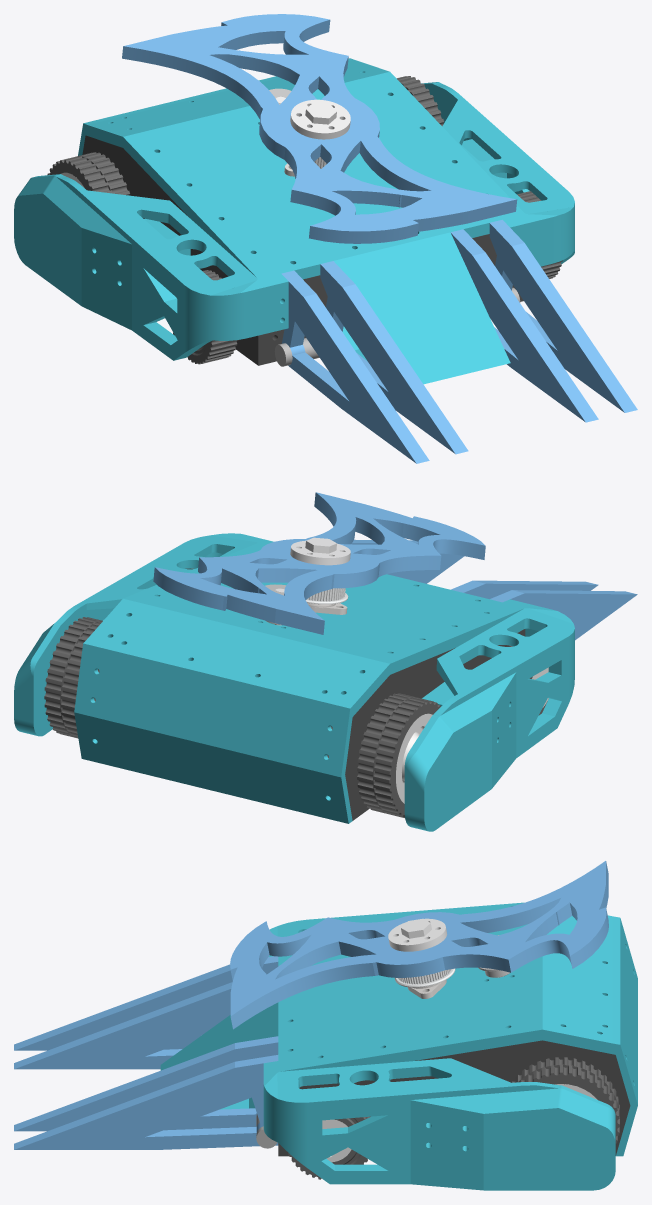
File: Robot1.glb
3 renders of one model, top to bottom at view 1: azimuth 30°, elevation 25°; view 2: azimuth 150°, elevation 25°; view 3: azimuth 270°, elevation 25°, orthographic. The views are drawn at different scales.
Visible parts, largest first — view 1: Chassis, Armor_Top_Lid, Armor_Side_L, Weapon_Pivot, Armor_Side_R, Armor_Wedge_L, Armor_Wedge_R, Armor_Front_Plate, Armor_Rear; view 2: Armor_Rear, Armor_Top_Lid, Armor_Side_L, Chassis, Weapon_Pivot, Armor_Side_R, Armor_Wedge_L; view 3: Armor_Side_R, Armor_Top_Lid, Chassis, Weapon_Pivot, Armor_Wedge_R, Armor_Wedge_L, Armor_Rear, Armor_Side_L.
Boxes of the visible parts, left/top/right/bottom form: Chassis: left=47, top=76, right=598, bottom=454; Armor_Top_Lid: left=85, top=59, right=524, bottom=279; Armor_Side_L: left=14, top=174, right=288, bottom=360; Weapon_Pivot: left=122, top=14, right=517, bottom=243; Armor_Side_R: left=421, top=82, right=574, bottom=266; Armor_Wedge_L: left=281, top=270, right=429, bottom=463; Armor_Wedge_R: left=489, top=219, right=637, bottom=412; Armor_Front_Plate: left=268, top=234, right=514, bottom=356; Armor_Rear: left=78, top=58, right=353, bottom=155; Armor_Rear: left=74, top=639, right=354, bottom=823; Armor_Top_Lid: left=87, top=543, right=524, bottom=716; Armor_Side_L: left=404, top=599, right=574, bottom=831; Chassis: left=44, top=537, right=598, bottom=820; Weapon_Pivot: left=153, top=492, right=485, bottom=634; Armor_Side_R: left=14, top=533, right=273, bottom=736; Armor_Wedge_L: left=490, top=590, right=637, bottom=640; Armor_Side_R: left=263, top=1058, right=615, bottom=1190; Armor_Top_Lid: left=278, top=909, right=615, bottom=1071; Chassis: left=14, top=918, right=630, bottom=1179; Weapon_Pivot: left=230, top=861, right=608, bottom=1029; Armor_Wedge_R: left=14, top=1055, right=278, bottom=1149; Armor_Wedge_L: left=14, top=956, right=278, bottom=1050; Armor_Rear: left=612, top=916, right=637, bottom=1156; Armor_Side_L: left=269, top=902, right=524, bottom=956.
Size of the model in its own units: 1.93 by 0.8679 by 2.6.
